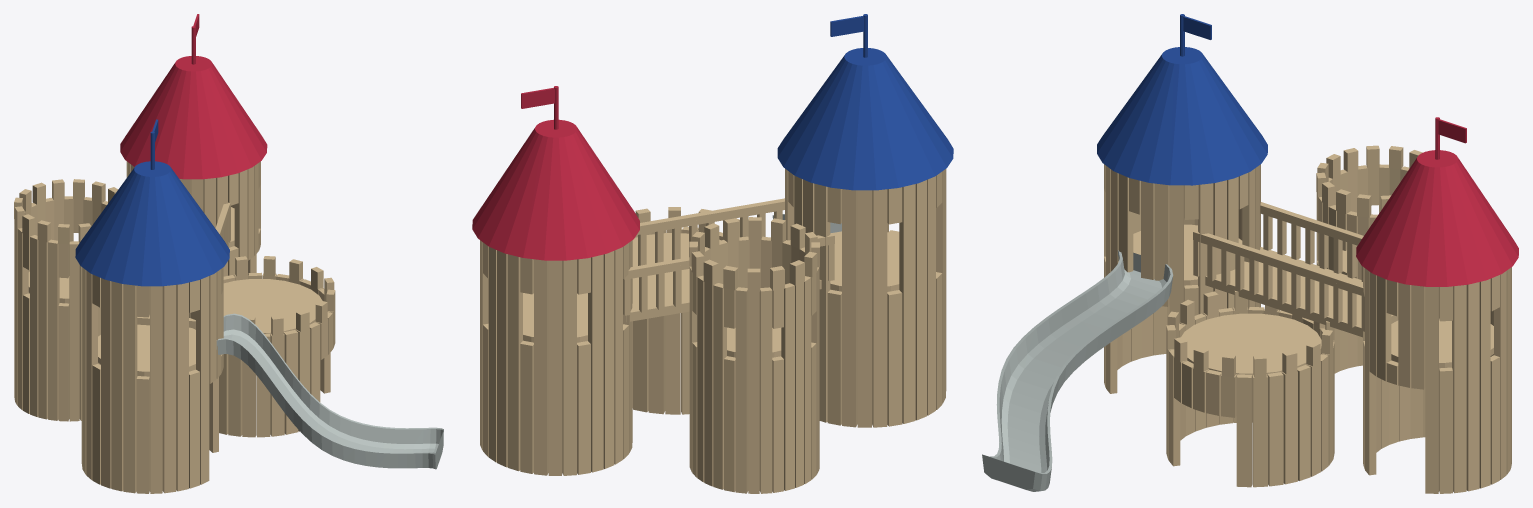
Rendered from paul-coffey-castle-study.glb.
The picture shows the model from 3 angles, left to right: view 1: azimuth 30°, elevation 25°; view 2: azimuth 150°, elevation 25°; view 3: azimuth 270°, elevation 25°; orthographic projection. The views are drawn at different scales.
Parts seen in each view (by area): view 1: Paul-Coffey-Castle-Reference-Study · wood, Paul-Coffey-Castle-Reference-Study · blue, Paul-Coffey-Castle-Reference-Study · red, Paul-Coffey-Castle-Reference-Study · grey; view 2: Paul-Coffey-Castle-Reference-Study · wood, Paul-Coffey-Castle-Reference-Study · blue, Paul-Coffey-Castle-Reference-Study · red; view 3: Paul-Coffey-Castle-Reference-Study · wood, Paul-Coffey-Castle-Reference-Study · blue, Paul-Coffey-Castle-Reference-Study · grey, Paul-Coffey-Castle-Reference-Study · red.
Boxes of the visible parts, x1,y1,x2,y2 form: Paul-Coffey-Castle-Reference-Study · wood: (14,161,335,493); Paul-Coffey-Castle-Reference-Study · blue: (75,119,229,286); Paul-Coffey-Castle-Reference-Study · red: (120,14,267,179); Paul-Coffey-Castle-Reference-Study · grey: (216,313,443,469); Paul-Coffey-Castle-Reference-Study · wood: (480,169,946,493); Paul-Coffey-Castle-Reference-Study · blue: (777,14,953,190); Paul-Coffey-Castle-Reference-Study · red: (472,86,639,260); Paul-Coffey-Castle-Reference-Study · wood: (1104,145,1511,493); Paul-Coffey-Castle-Reference-Study · blue: (1097,14,1267,185); Paul-Coffey-Castle-Reference-Study · grey: (982,250,1173,491); Paul-Coffey-Castle-Reference-Study · red: (1356,117,1518,286).
Bounding box in the file's own units: 5.42 × 5.9 × 7.79.
